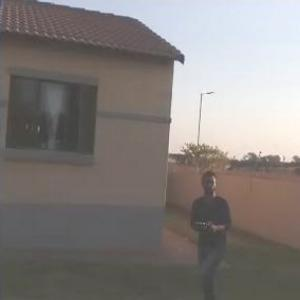follow: (183, 165, 236, 299)
